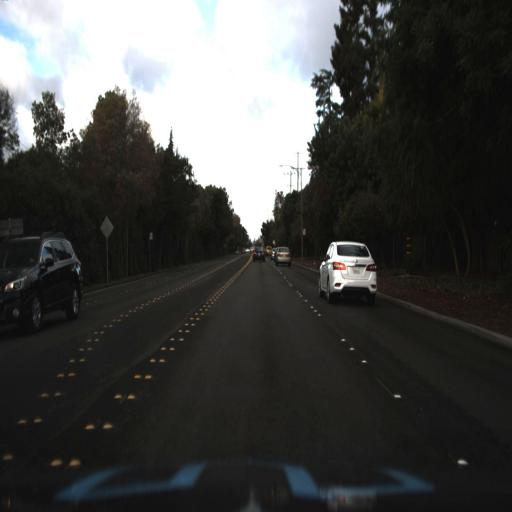car: (0, 230, 86, 336), (313, 237, 378, 310), (276, 243, 292, 271), (251, 242, 267, 260)
